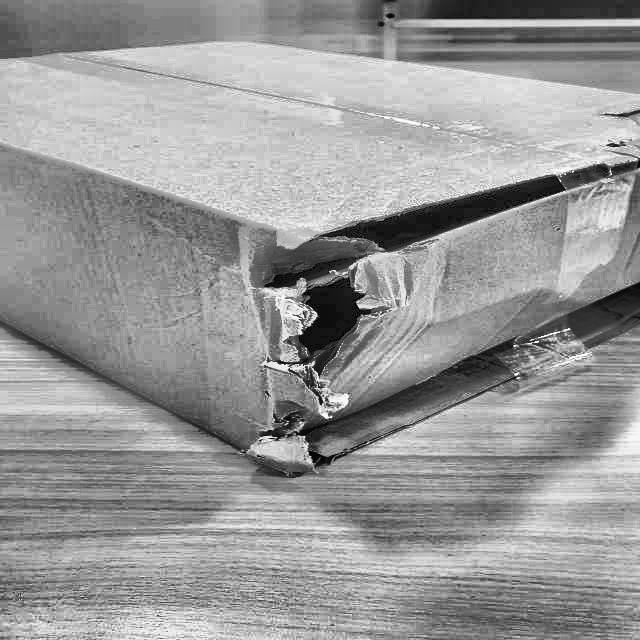box: (0, 22, 639, 502)
hole: (302, 159, 640, 247), (242, 249, 382, 367)
